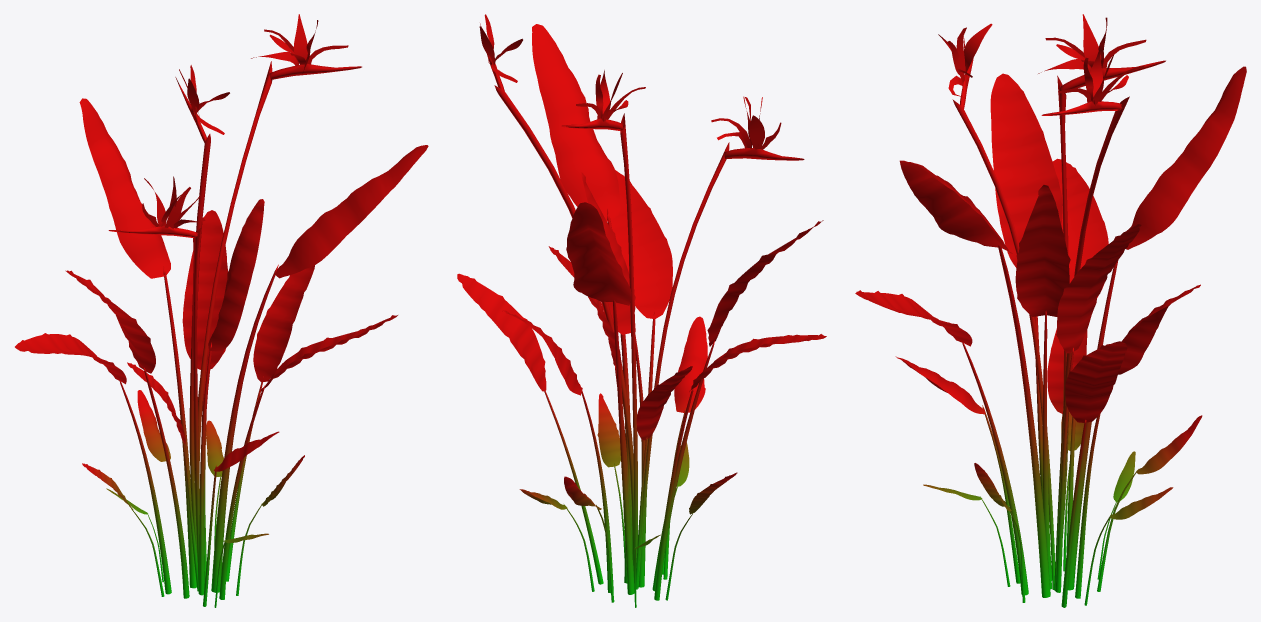
File: Bird Of Paradise_LOD2_Var5_wfypeifha.fbx
3 views of the same model, side by side, from view 1: azimuth 30°, elevation 25°; view 2: azimuth 150°, elevation 25°; view 3: azimuth 270°, elevation 25° (orthographic). The views are drawn at different scales.
Parts seen in each view (by area): view 1: _gt8b_Var5_LOD2; view 2: _gt8b_Var5_LOD2; view 3: _gt8b_Var5_LOD2.
Boxes of the visible parts, x1,y1,x2,y2 form: _gt8b_Var5_LOD2: (15,14,428,607); _gt8b_Var5_LOD2: (457,14,826,607); _gt8b_Var5_LOD2: (855,14,1246,607).
Size of the model in its own units: 122 by 178 by 104.
